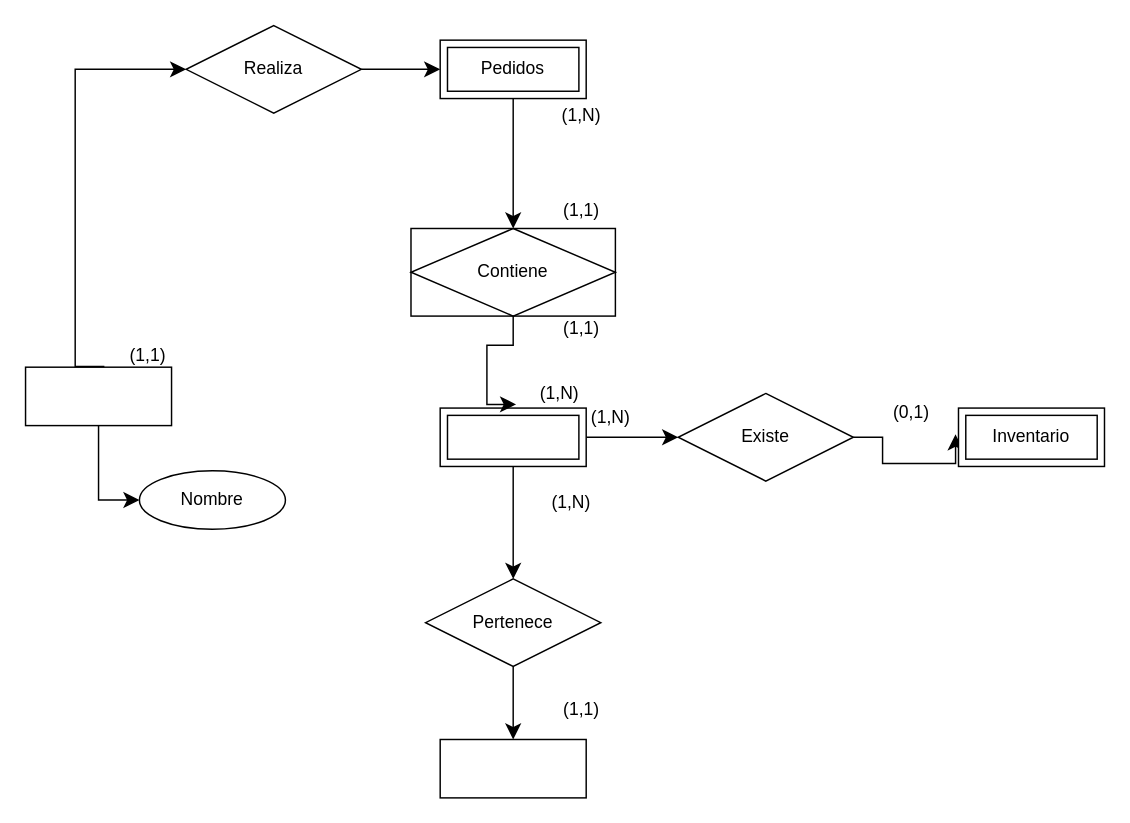
The diagram is 1130 pixels wide and 823 high, and some of its shapes have lost their labels. The shapes that lost their labels are listed below. From the top down, each one's centre as x and y in pixels, then its label:
At [98,396]: "Clientes".
At [512,436]: "Libros".
At [512,768]: "Editoriales".
